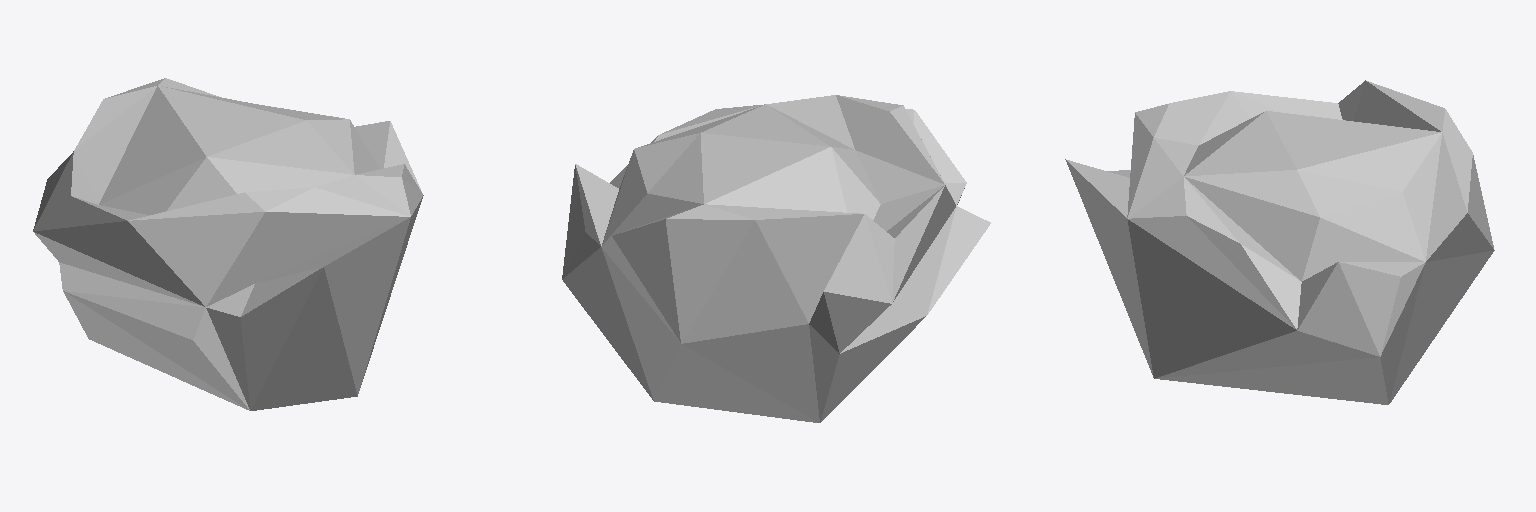
File: SM_Prop_Lettuce_01_M.obj
The picture shows the model from 3 angles: view 1: azimuth 30°, elevation 25°; view 2: azimuth 150°, elevation 25°; view 3: azimuth 270°, elevation 25°; orthographic projection.
Size of the model in its own units: 20.19 by 13.16 by 21.3.